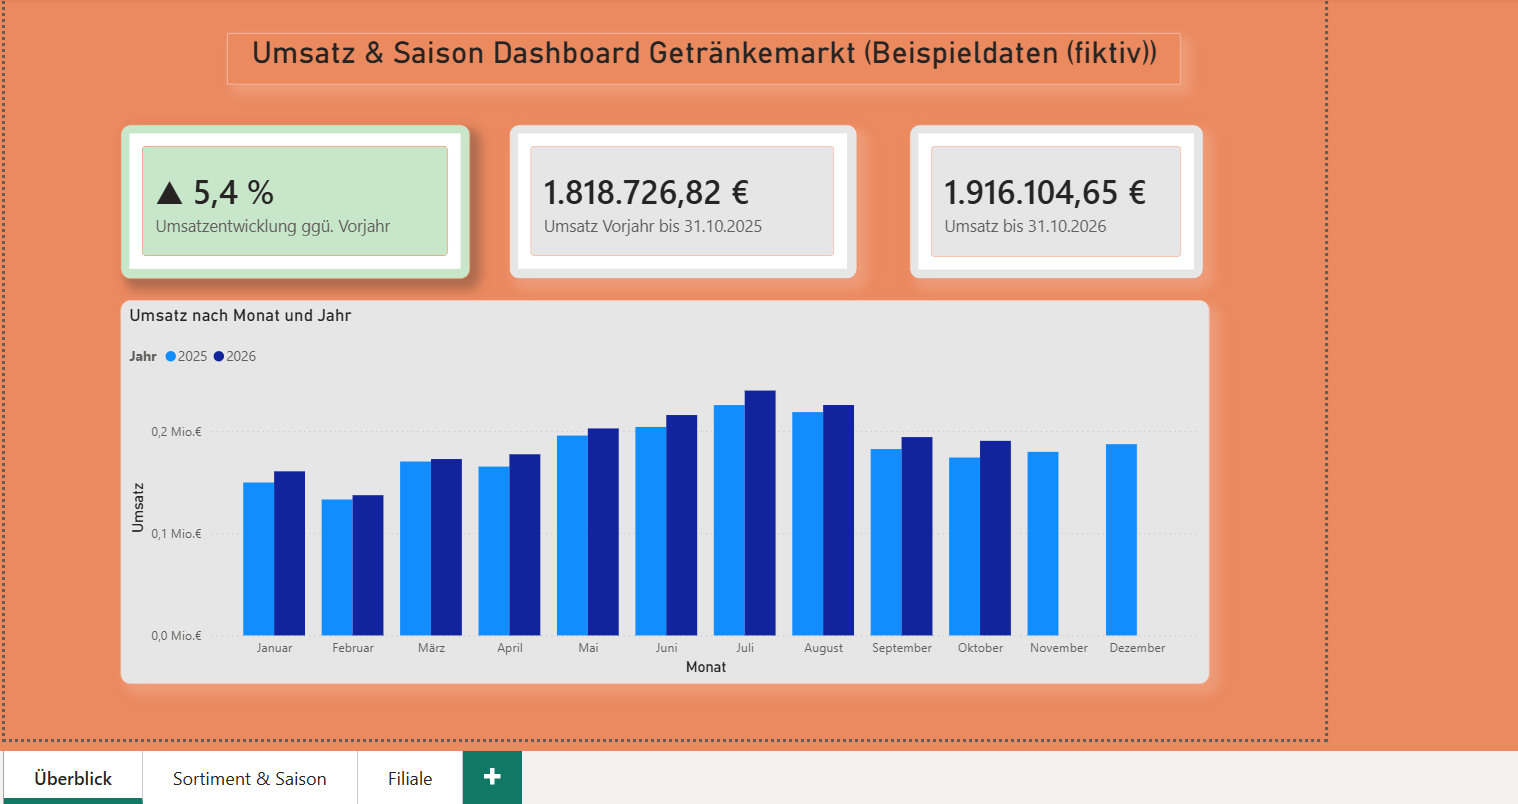

The page's visual inventory and layout, read from the dashboard file:
{"tool":"powerbi","page":{"name":"Überblick","canvas":[1280,720],"ordinal":0},"visuals":[{"type":"actionButton","title":"Umsatz & Saison Dashboard Getränkemarkt (Beispieldaten (fiktiv))","box":[215,34.8,925.2,50],"z":0},{"type":"cardVisual","fields":{"Data":["_Measures.Umsatz VJ (voll)"]},"box":[489.1,124.2,337.7,149.9],"z":1},{"type":"cardVisual","fields":{"Data":["_Measures.Umsatz Aktuell (voll)"]},"box":[878.2,124.2,285,150],"z":2},{"type":"cardVisual","fields":{"Data":["_Measures.Ergebnis Umsatz YoY % (aktuelles Jahr)"]},"box":[112.1,124.2,339.2,149.9],"z":3},{"type":"clusteredColumnChart","fields":{"Category":["Datum.Monat"],"Y":["_Measures.Umsatz"],"Series":["Datum.Jahr"]},"box":[112.1,293.8,1056.9,372.5],"z":4}]}

Visuals, with their boxes on the page's 1280x720 design canvas (x1, y1, x2, y2). These are canvas units, not pixel positions in the 1518x804 screenshot, which may show the page scaled, cropped or inside an application window:
"Umsatz & Saison Dashboard Getränkemarkt (Beispieldaten (fiktiv))" actionButton: [215,35,1140,85]
cardVisual - _Measures.Umsatz VJ (voll): [489,124,827,274]
cardVisual - _Measures.Umsatz Aktuell (voll): [878,124,1163,274]
cardVisual - _Measures.Ergebnis Umsatz YoY % (aktuelles Jahr): [112,124,451,274]
clusteredColumnChart - Datum.Monat x _Measures.Umsatz: [112,294,1169,666]
